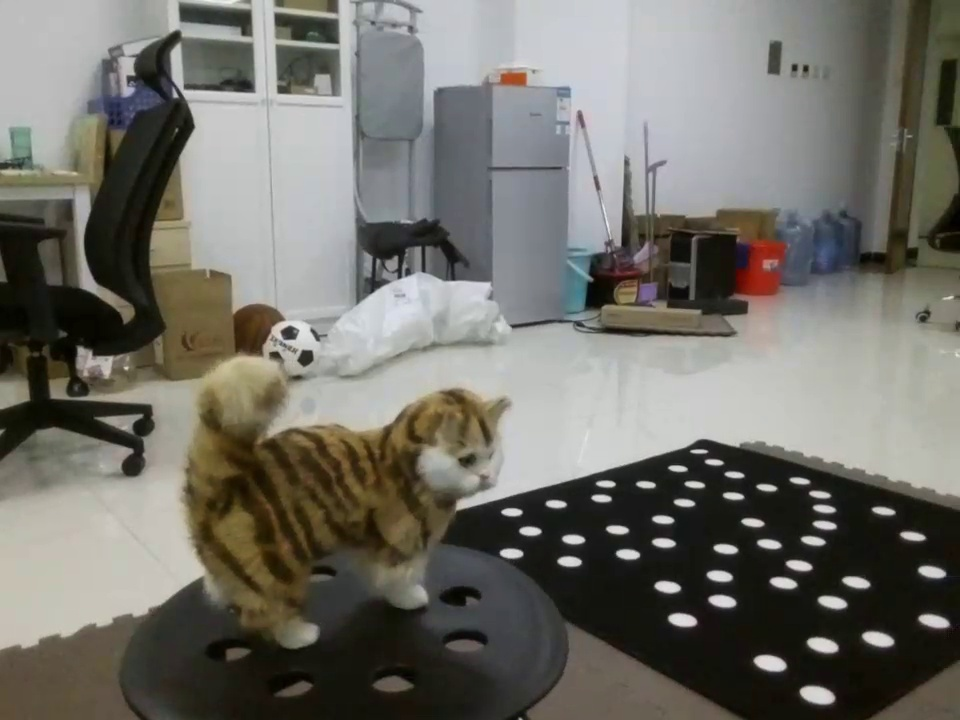cat: (157, 353, 544, 635)
